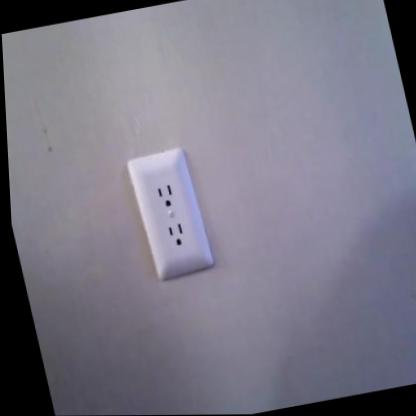OUTLET: (124, 147, 217, 281)
